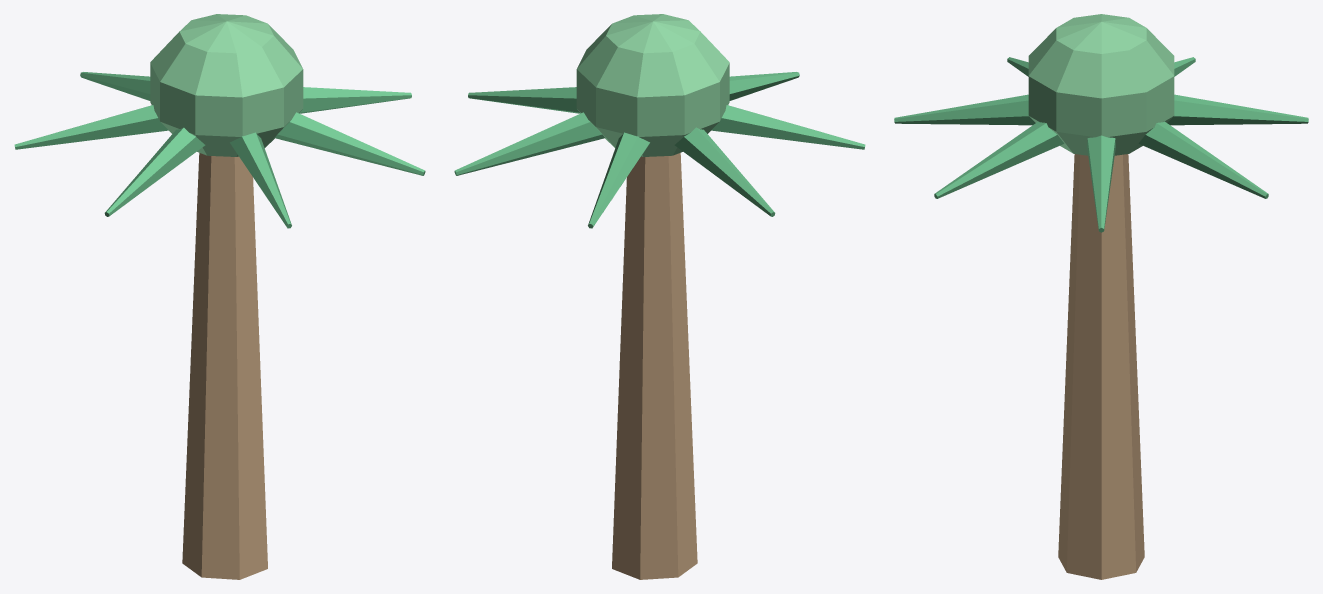
Rendered from palmera_isla.glb.
3 views of the same model, side by side, from view 1: azimuth 30°, elevation 25°; view 2: azimuth 150°, elevation 25°; view 3: azimuth 270°, elevation 25° (orthographic).
Parts seen in each view (by area): view 1: palmera_isla; view 2: palmera_isla; view 3: palmera_isla.
Boxes of the visible parts, x1,y1,x2,y2 form: palmera_isla: [14, 14, 425, 579]; palmera_isla: [454, 14, 865, 579]; palmera_isla: [894, 14, 1308, 579].
Bounding box in the file's own units: 2.01 × 2.95 × 2.06.
